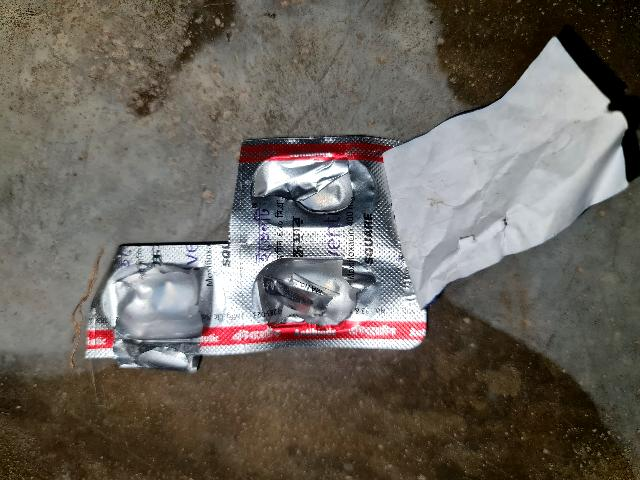medicine: (76, 126, 456, 370)
